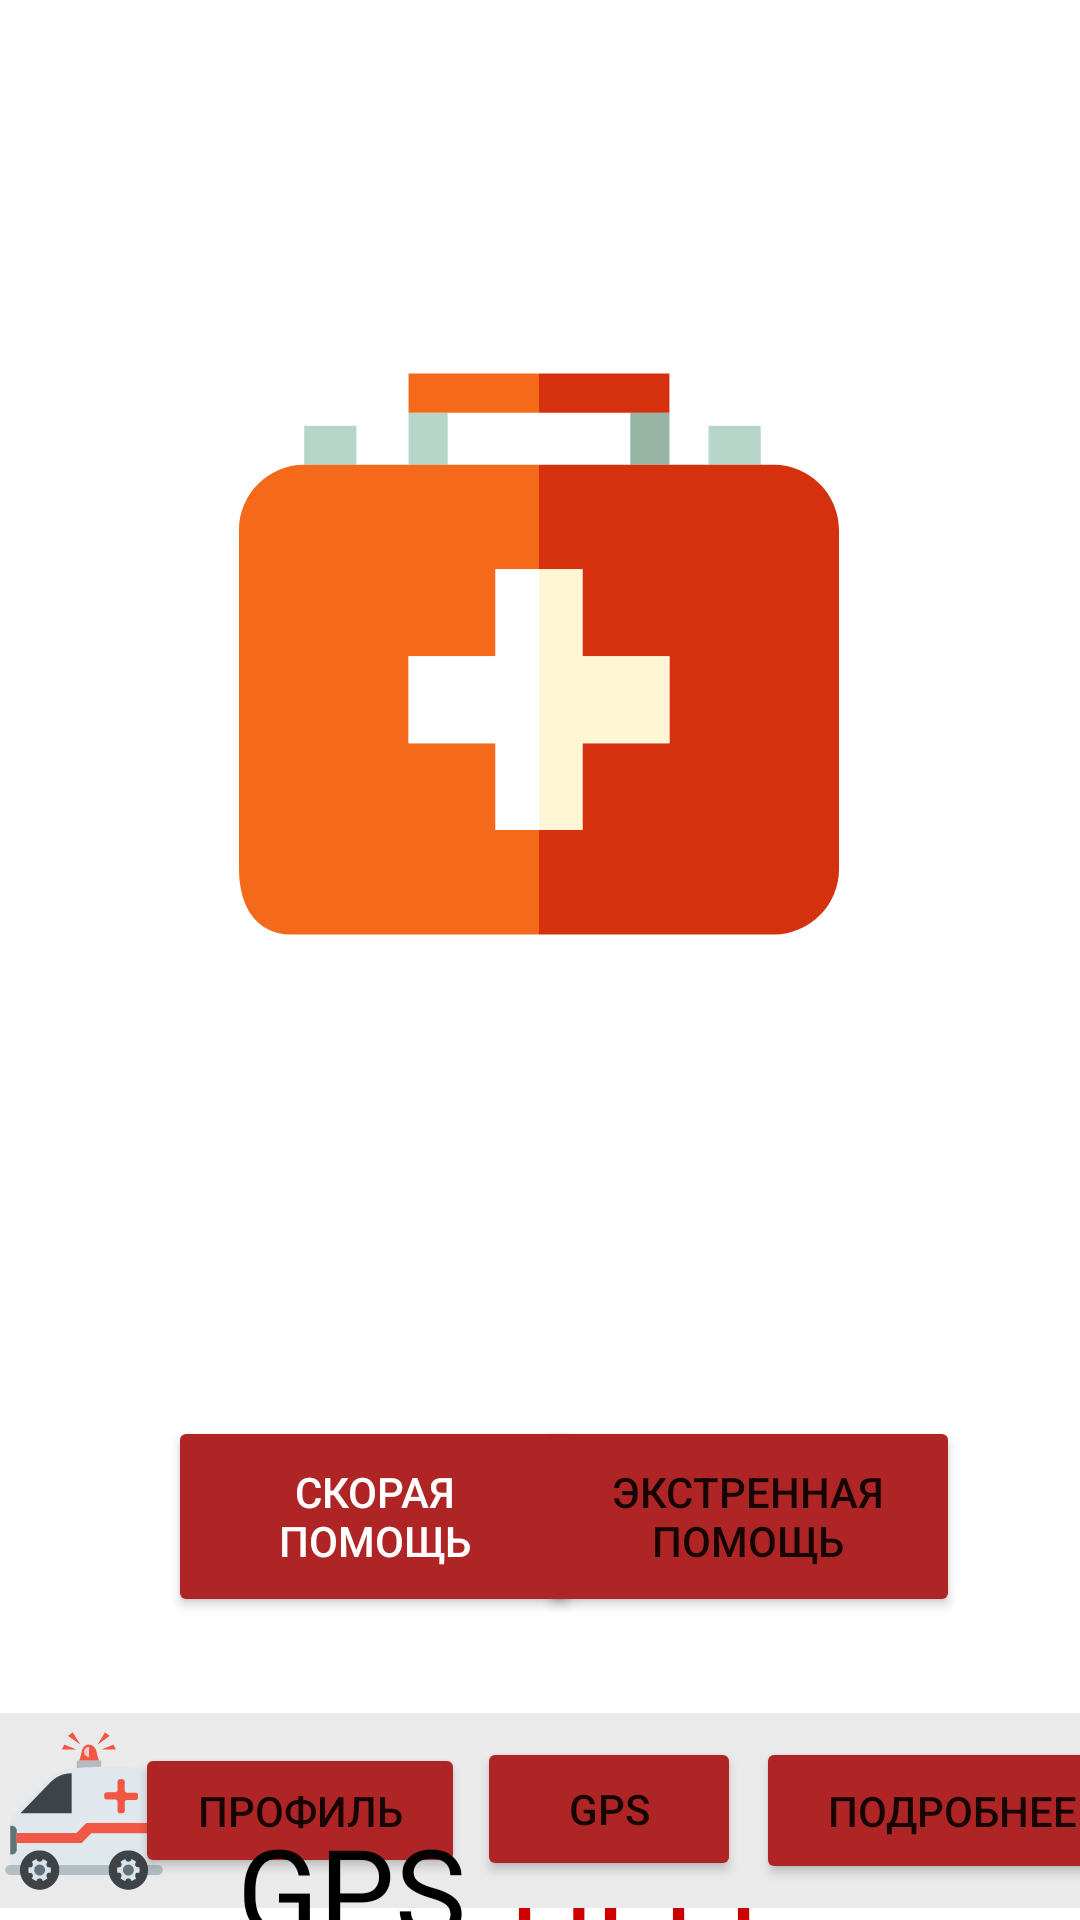

Screen size 1080×1920. Icon name, then its box in pixels as bbox=(x1, y1, x2, y2):
scoraya: bbox=(5, 1732, 168, 1890)
